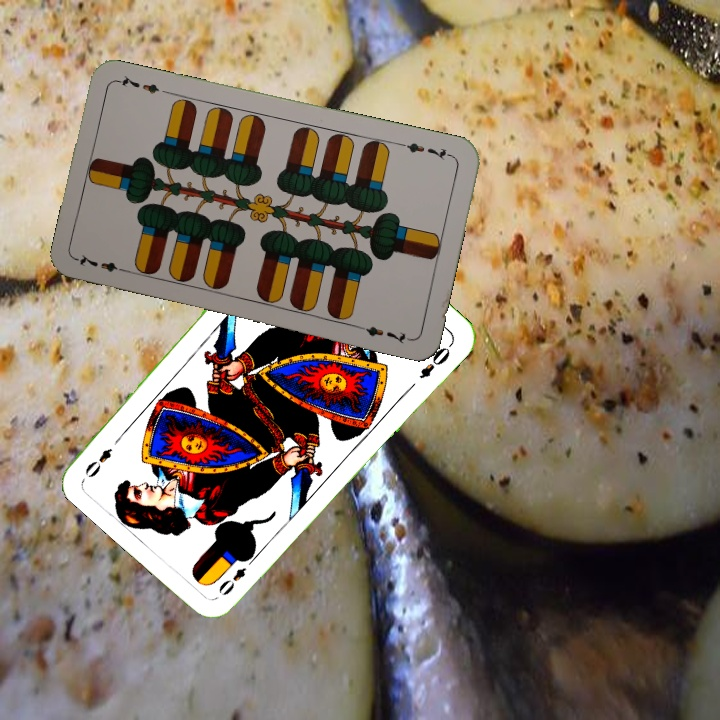E7: (397, 138, 455, 163), (74, 250, 132, 275)
EO: (214, 551, 259, 598)
